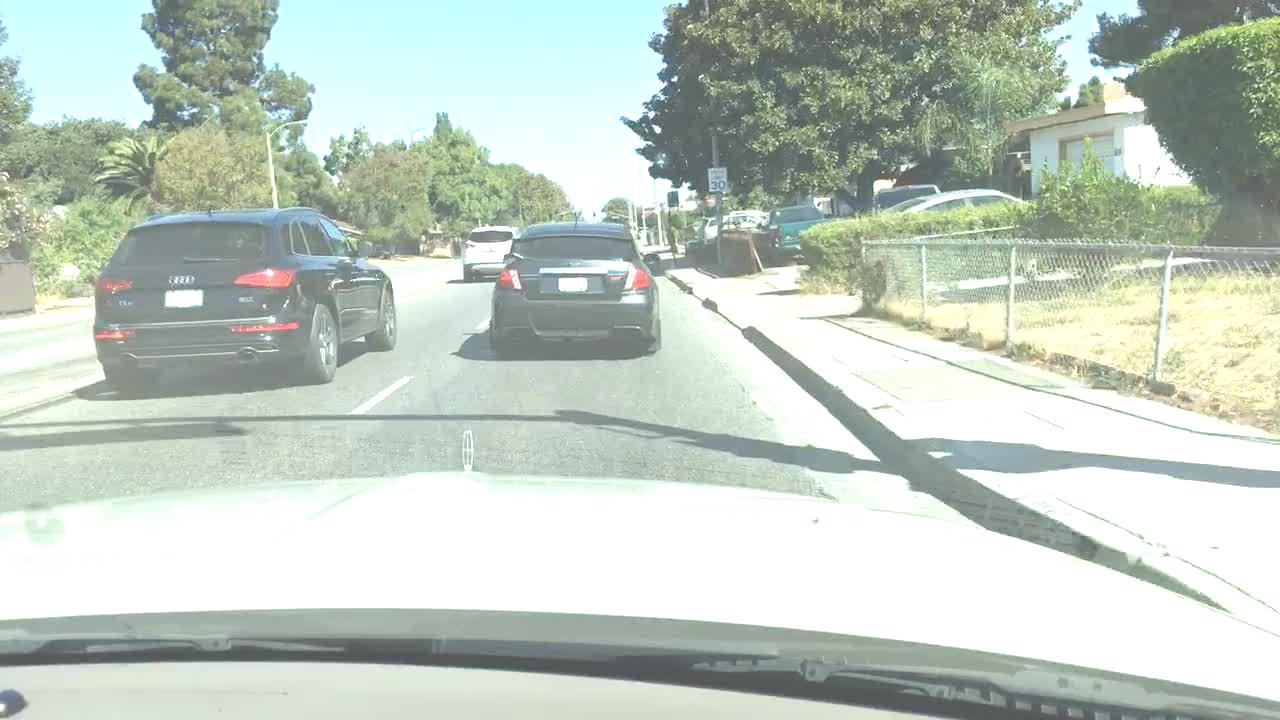Audi: (159, 272, 200, 286)
